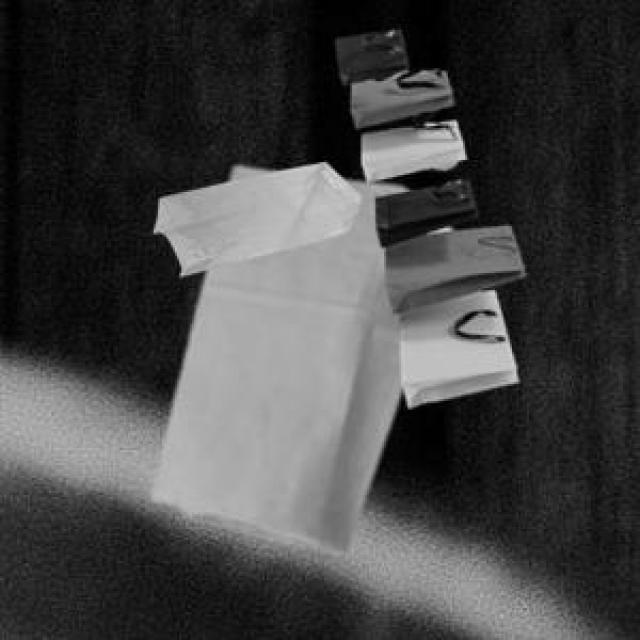paper: (149, 162, 448, 548), (331, 26, 521, 403)
